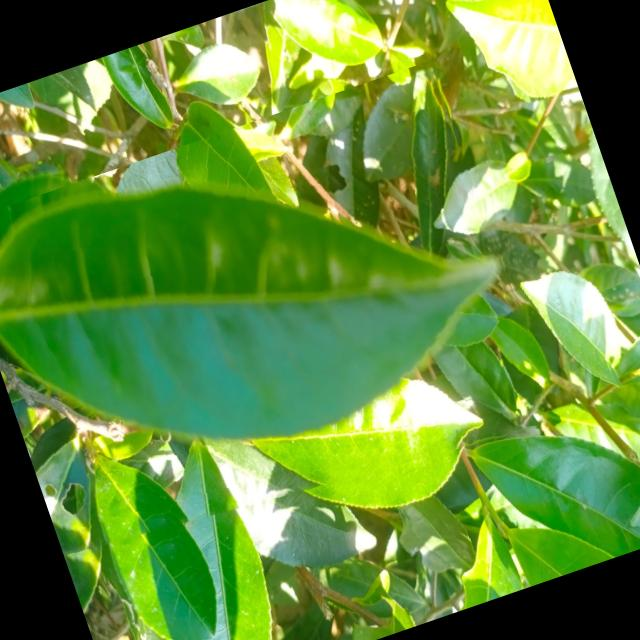Category D(7+ days, Not for Tea): (0, 58, 560, 587)
